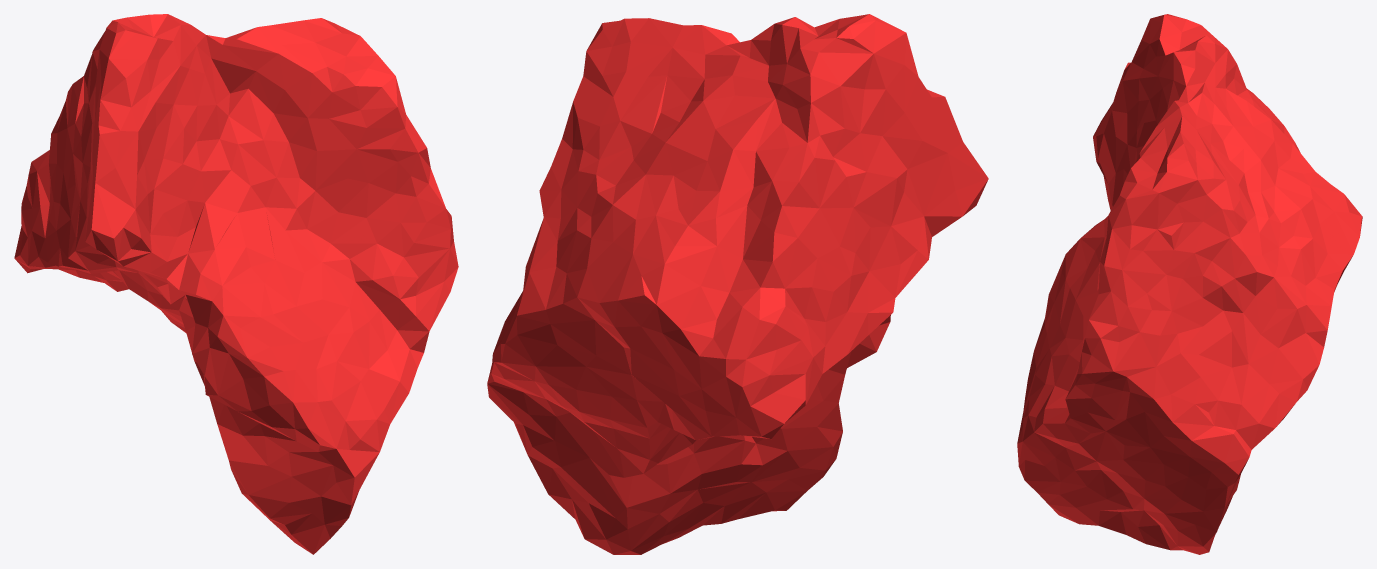
Rendered from stone1.fbx.
The picture shows the model from 3 angles, left to right: view 1: azimuth 30°, elevation 25°; view 2: azimuth 150°, elevation 25°; view 3: azimuth 270°, elevation 25°; orthographic projection. The views are drawn at different scales.
Parts seen in each view (by area): view 1: Model; view 2: Model; view 3: Model.
Boxes of the visible parts, <box> form: Model: <box>14,14,458,554</box>; Model: <box>487,14,988,554</box>; Model: <box>1017,14,1362,554</box>.
Bounding box in the file's own units: 186 × 250 × 172.
